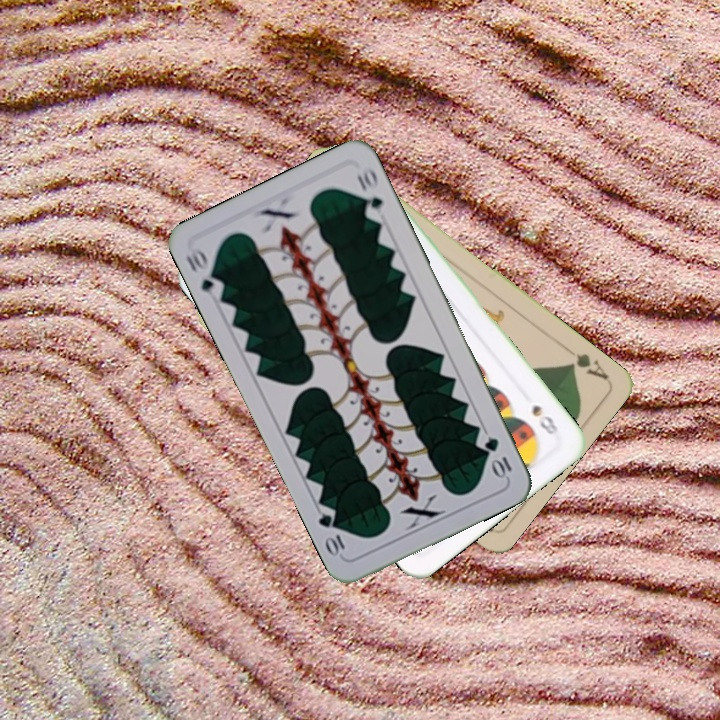G10: (181, 243, 227, 297), (480, 433, 515, 481)
GA: (559, 341, 611, 383)
S8: (528, 401, 561, 438)
